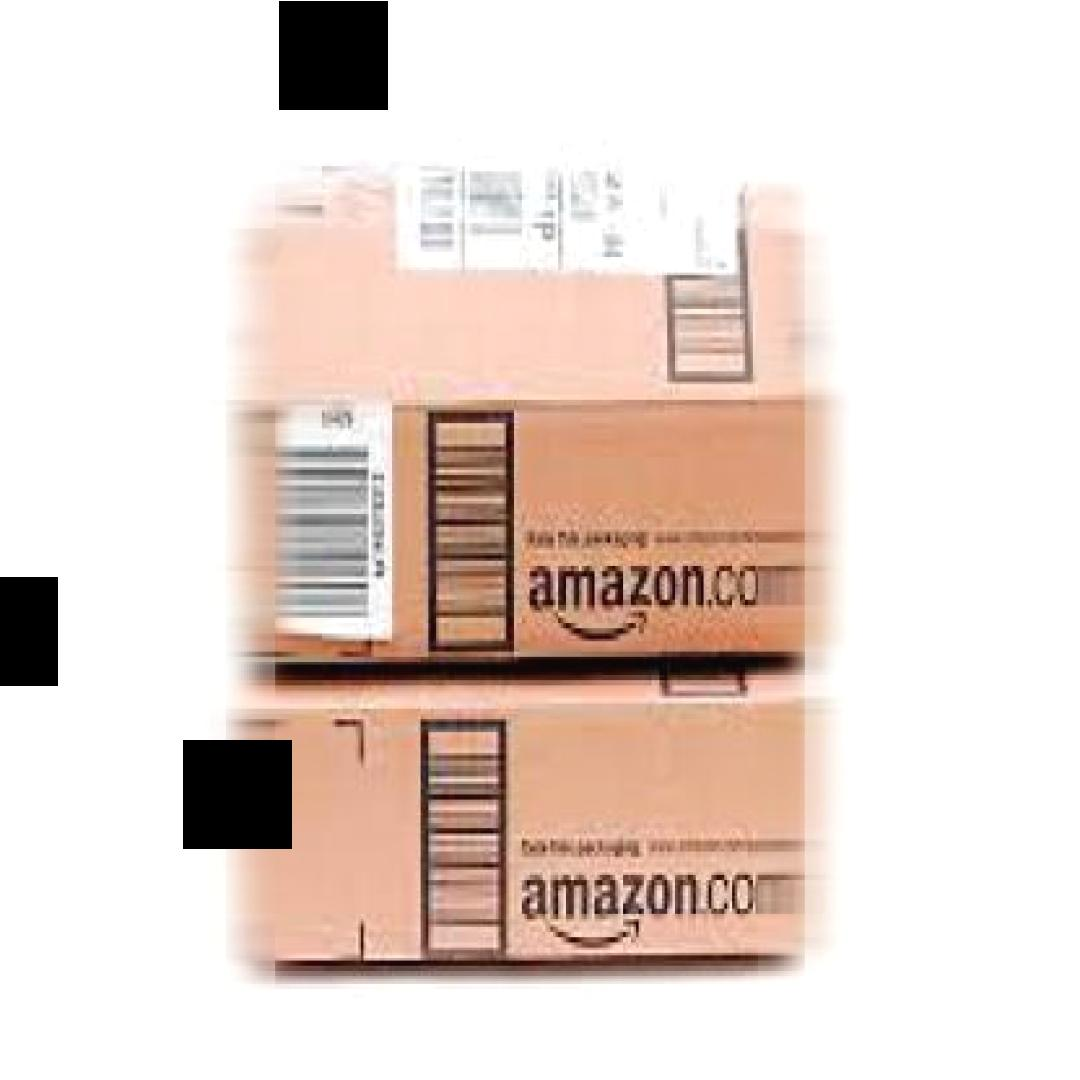package: (252, 168, 823, 668), (241, 667, 823, 974)
